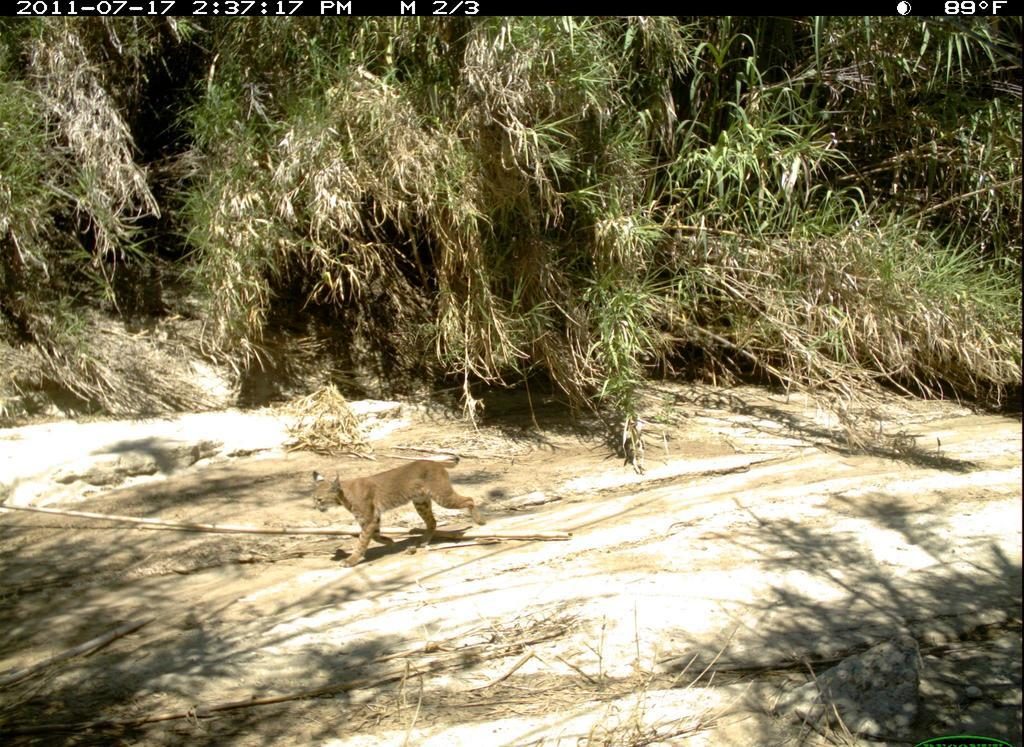bobcat: (294, 434, 507, 569)
